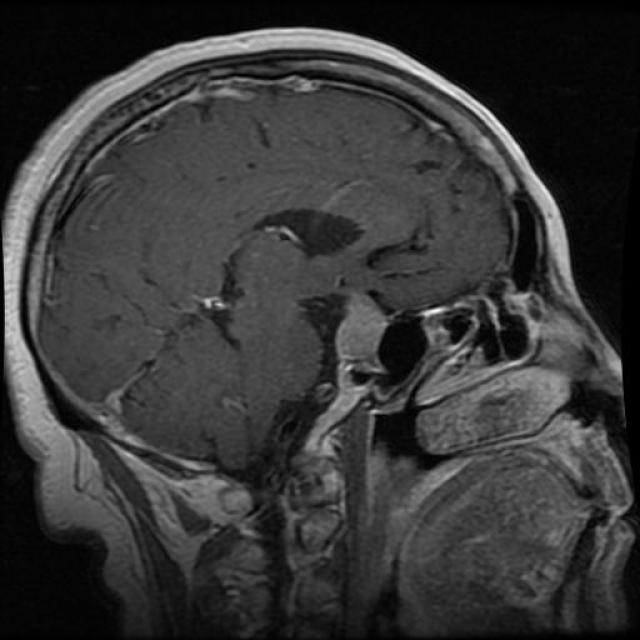pituitary: (300, 282, 420, 424)
